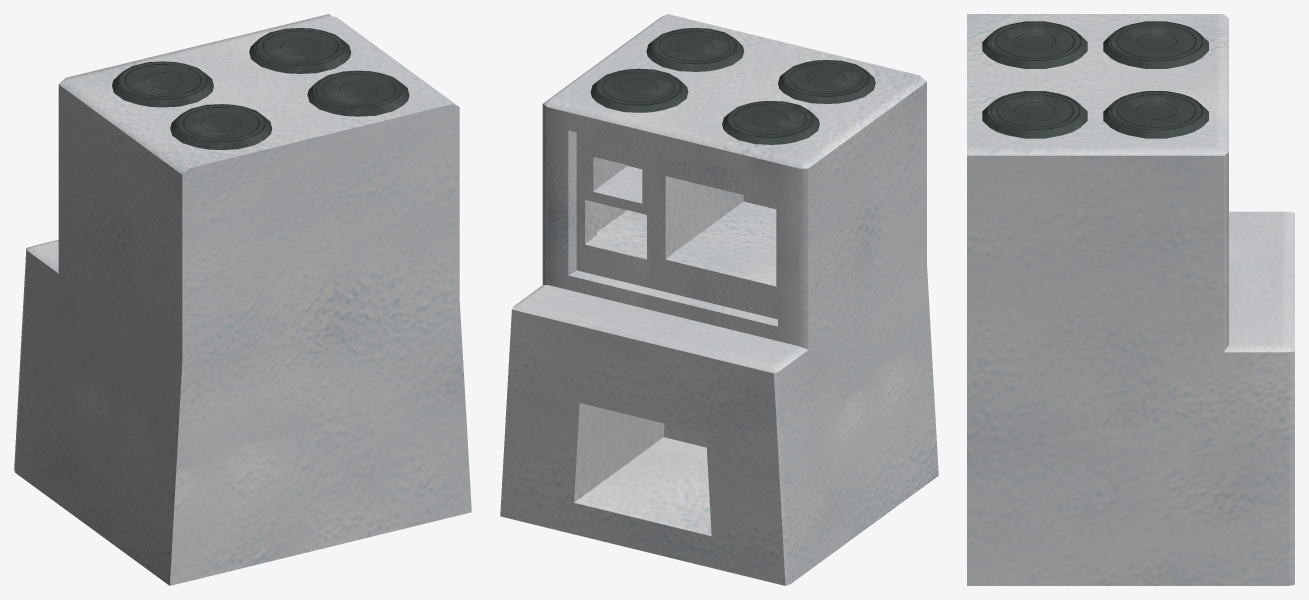
The model's file is oven finalfbx.fbx.
3 renders of one model, left to right at view 1: azimuth 30°, elevation 25°; view 2: azimuth 150°, elevation 25°; view 3: azimuth 270°, elevation 25°, orthographic. The views are drawn at different scales.
Parts seen in each view (by area): view 1: pCube5; view 2: pCube5; view 3: pCube5.
Part boxes in pixels (x1,y1,x2,y2): pCube5: (14, 14, 471, 585); pCube5: (500, 14, 938, 585); pCube5: (967, 14, 1294, 585).
Size of the model in its own units: 77.69 by 103 by 70.35.
1 material, 1 textured.
